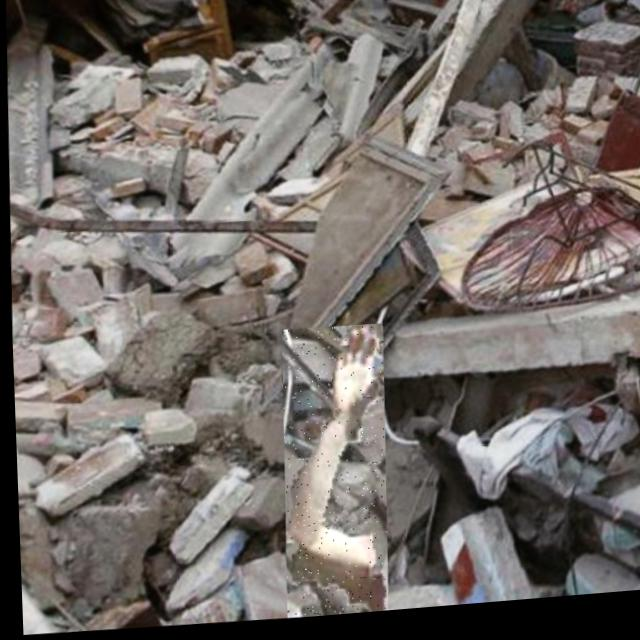Person in Rubble: (273, 327, 388, 623)
